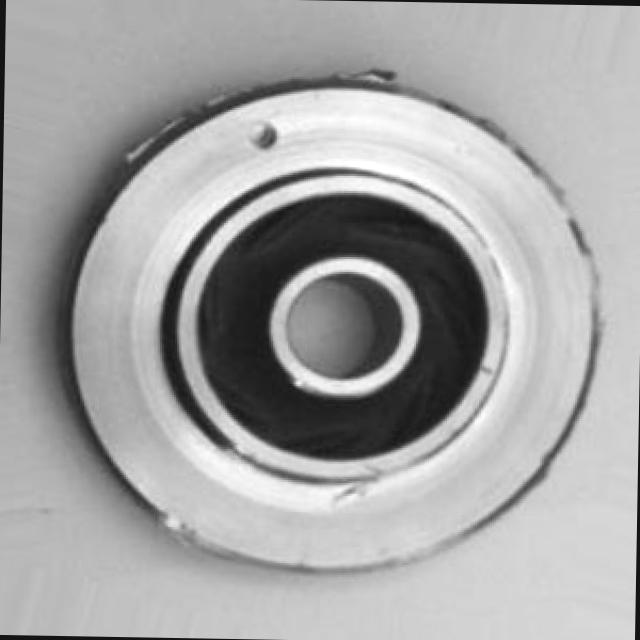Defect: (245, 118, 285, 156)
